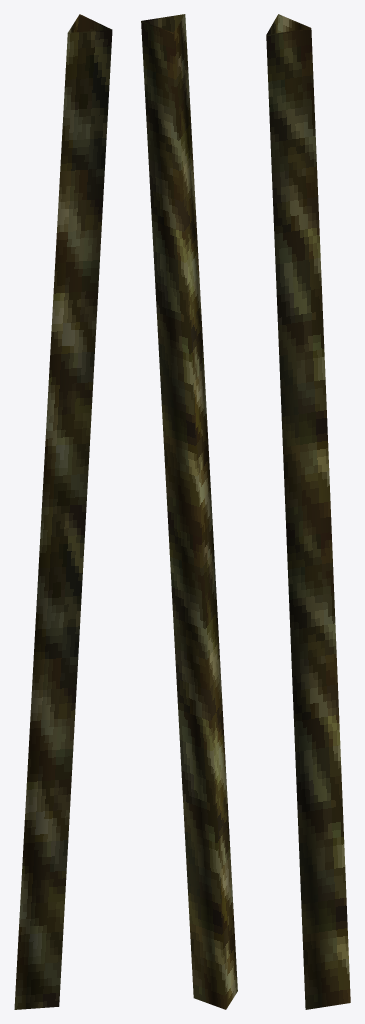
Rendered from OVERHILL_A_01_ROPE_LINE_12.fbx.
3 renders of one model, left to right at view 1: azimuth 30°, elevation 25°; view 2: azimuth 210°, elevation 25°; view 3: azimuth 270°, elevation 25°, orthographic. The views are drawn at different scales.
Visible parts, largest first — view 1: OVERHILL_A_01_ROPE_LINE_12; view 2: OVERHILL_A_01_ROPE_LINE_12; view 3: OVERHILL_A_01_ROPE_LINE_12.
Part boxes in pixels (<box>): OVERHILL_A_01_ROPE_LINE_12: <box>14,14,112,1009</box>; OVERHILL_A_01_ROPE_LINE_12: <box>141,14,237,1009</box>; OVERHILL_A_01_ROPE_LINE_12: <box>266,14,350,1009</box>.
Size of the model in its own units: 854 by 11075 by 854.
1 material, 1 textured.
